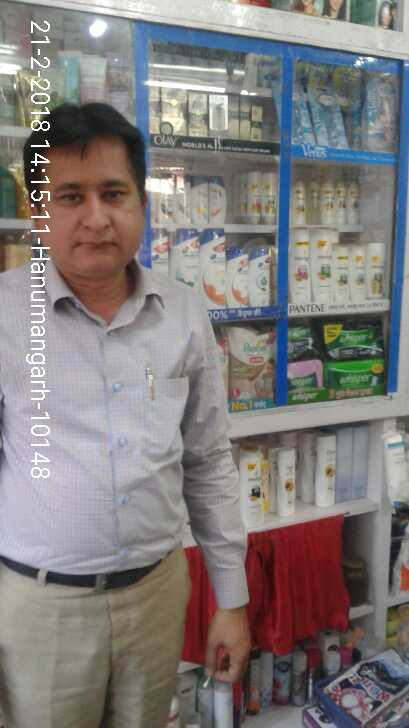venus: (365, 75, 400, 150), (313, 65, 340, 147), (340, 64, 362, 149), (290, 80, 312, 147)
